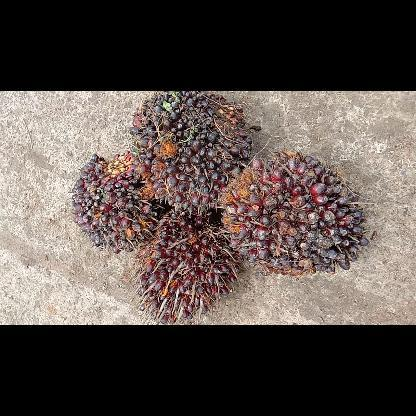Kurang masak: (218, 143, 372, 279), (126, 90, 262, 218), (134, 206, 246, 324), (67, 148, 168, 254)
